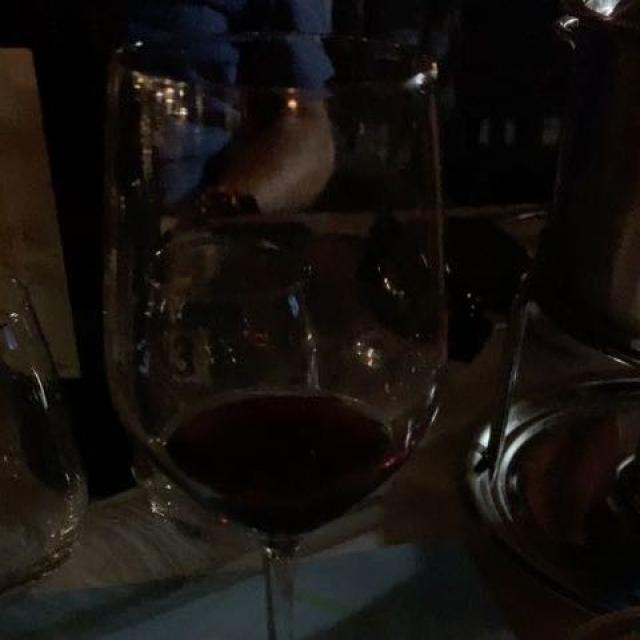wine: (199, 407, 409, 546)
